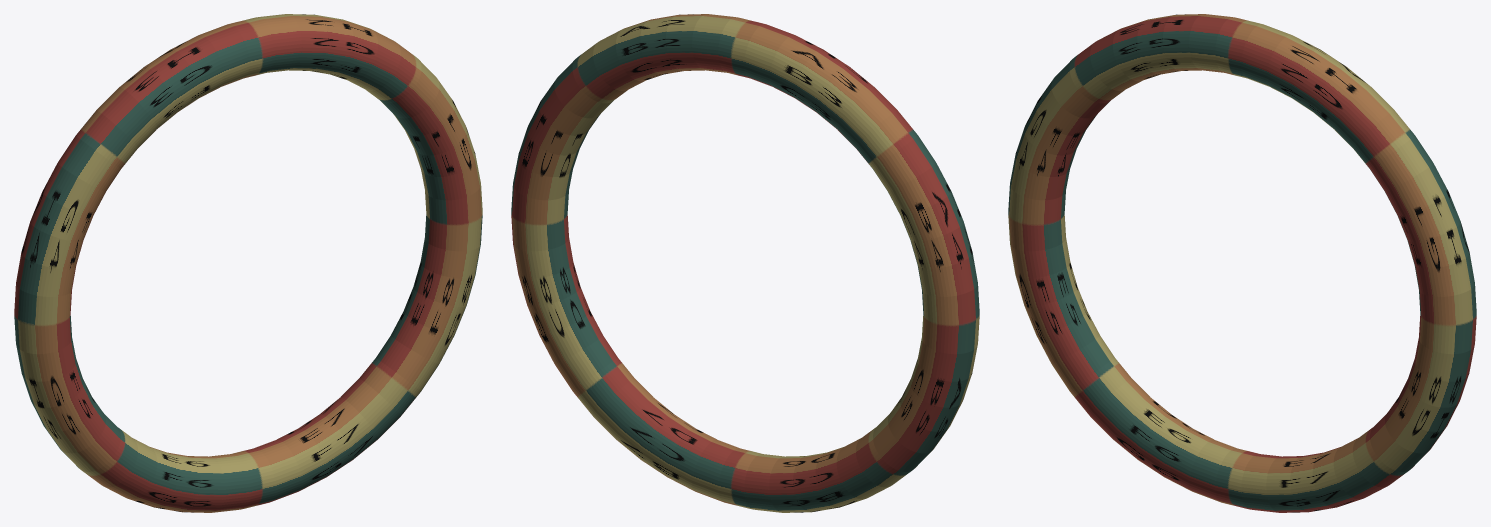
Rendered from texture_torus_R17_r2.glb.
The picture shows the model from 3 angles, left to right: view 1: azimuth 30°, elevation 25°; view 2: azimuth 150°, elevation 25°; view 3: azimuth 330°, elevation 25°; orthographic projection.
Visible parts, largest first — view 1: world; view 2: world; view 3: world.
Part boxes in pixels (box(x1,y1,x2,y2)): world: box(14, 14, 482, 512); world: box(511, 14, 979, 512); world: box(1008, 14, 1476, 512).
Bounding box in the file's own units: 23.87 × 23.82 × 2.53.
1 material, 1 textured.
